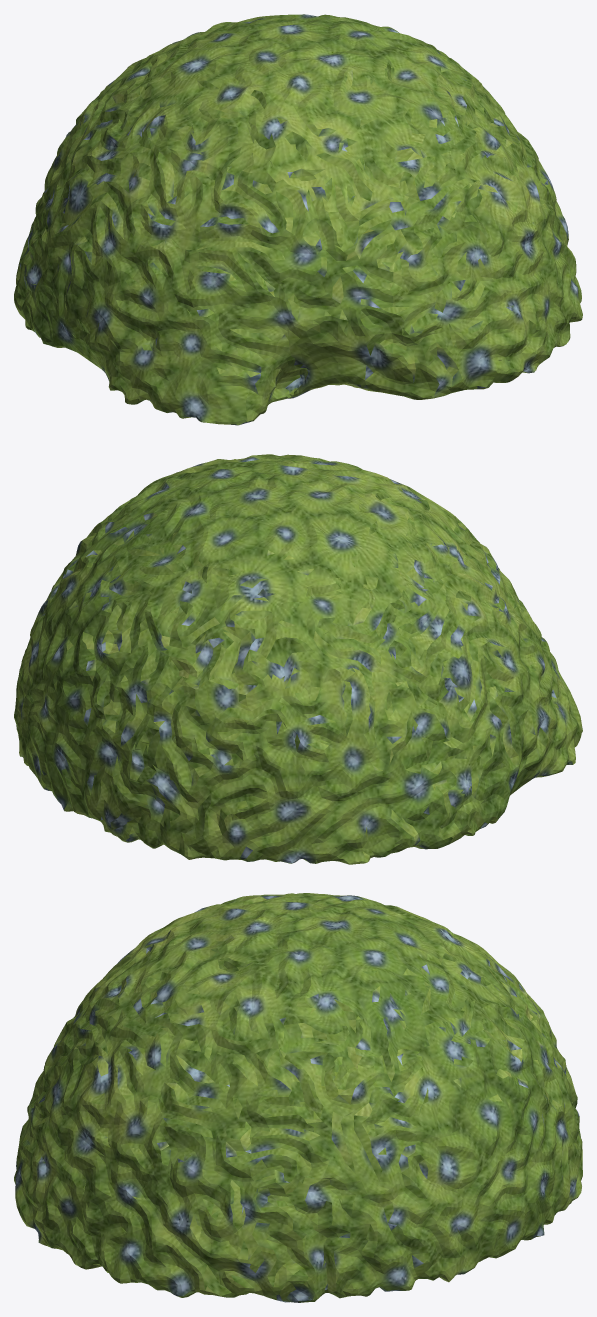
The model's file is coral bouquet.glb.
3 renders of one model, top to bottom at view 1: azimuth 30°, elevation 25°; view 2: azimuth 150°, elevation 25°; view 3: azimuth 270°, elevation 25°, orthographic. The views are drawn at different scales.
Visible parts, largest first — view 1: coral_5_top_watertight_small; view 2: coral_5_top_watertight_small; view 3: coral_5_top_watertight_small.
Part boxes in pixels (x1,y1,x2,y2): coral_5_top_watertight_small: [14, 14, 582, 425]; coral_5_top_watertight_small: [14, 454, 582, 864]; coral_5_top_watertight_small: [14, 893, 582, 1302].
Size of the model in its own units: 179 by 95.91 by 182.
1 material, 1 textured.
